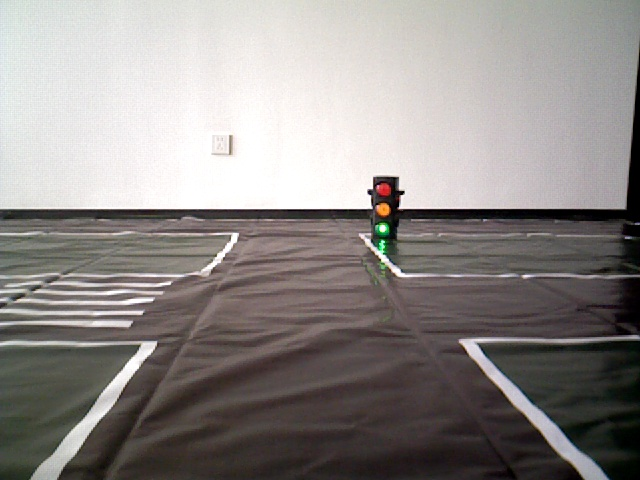green: (373, 177, 393, 237)
